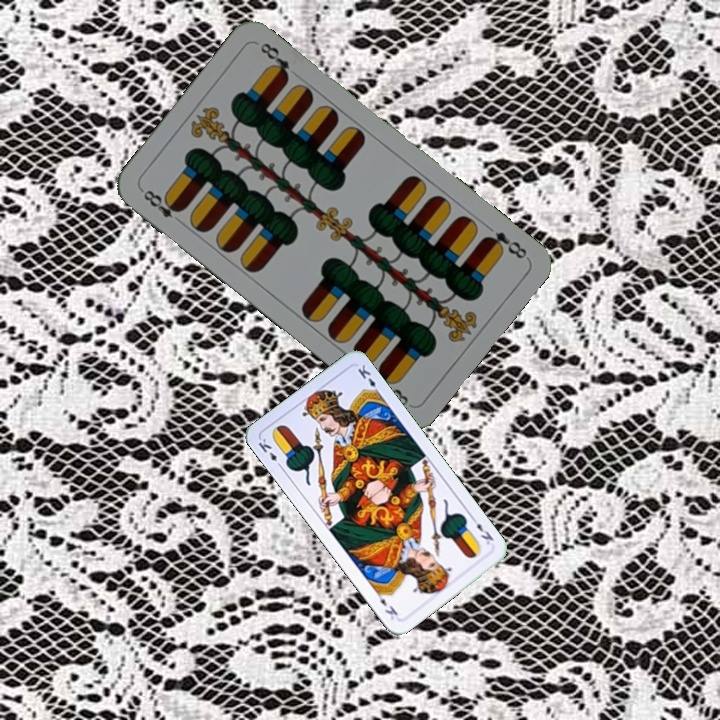E8: (137, 185, 186, 228), (479, 227, 530, 262)
EK: (254, 434, 285, 471), (467, 513, 496, 548)
